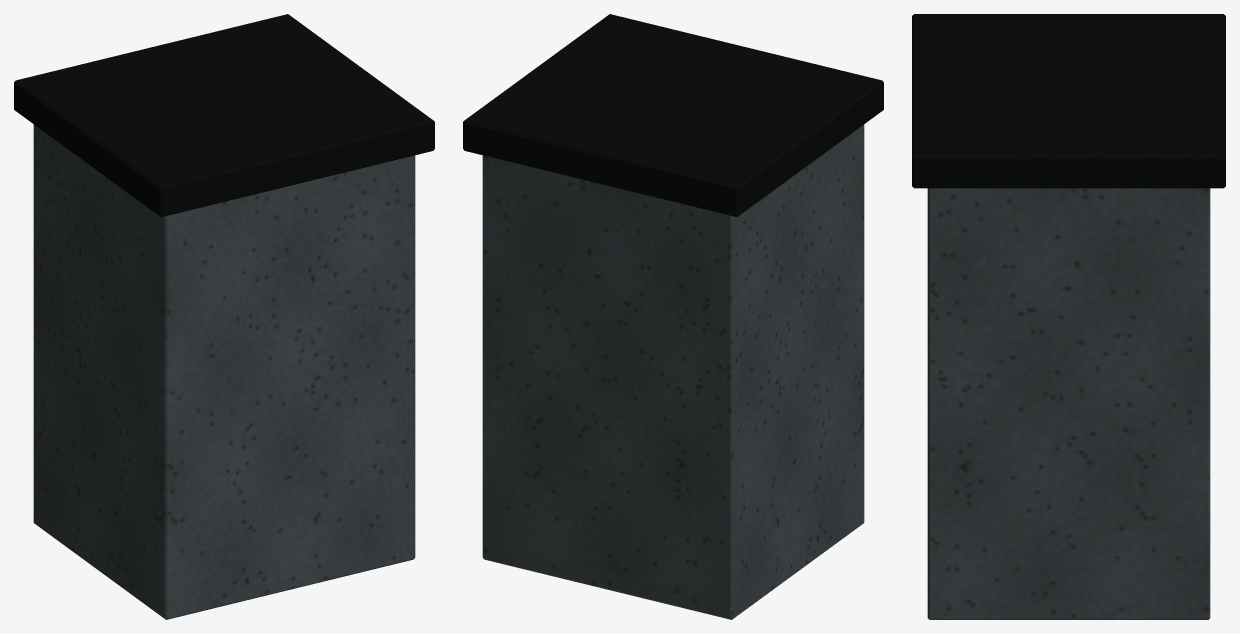
File: PROP-5233094C648C_lod1.glb
3 views of the same model, side by side, from view 1: azimuth 30°, elevation 25°; view 2: azimuth 150°, elevation 25°; view 3: azimuth 270°, elevation 25° (orthographic). The views are drawn at different scales.
Parts seen in each view (by area): view 1: waste_container.003, bin_lid.003; view 2: waste_container.003, bin_lid.003; view 3: waste_container.003, bin_lid.003.
Part boxes in pixels (x1,y1,x2,y2): waste_container.003: [33, 124, 415, 619]; bin_lid.003: [14, 14, 434, 217]; waste_container.003: [482, 124, 864, 619]; bin_lid.003: [463, 14, 883, 217]; waste_container.003: [927, 188, 1210, 619]; bin_lid.003: [912, 14, 1225, 188].
Bounding box in the file's own units: 0.66 × 1.01 × 0.61.
2 materials, 2 textured.
